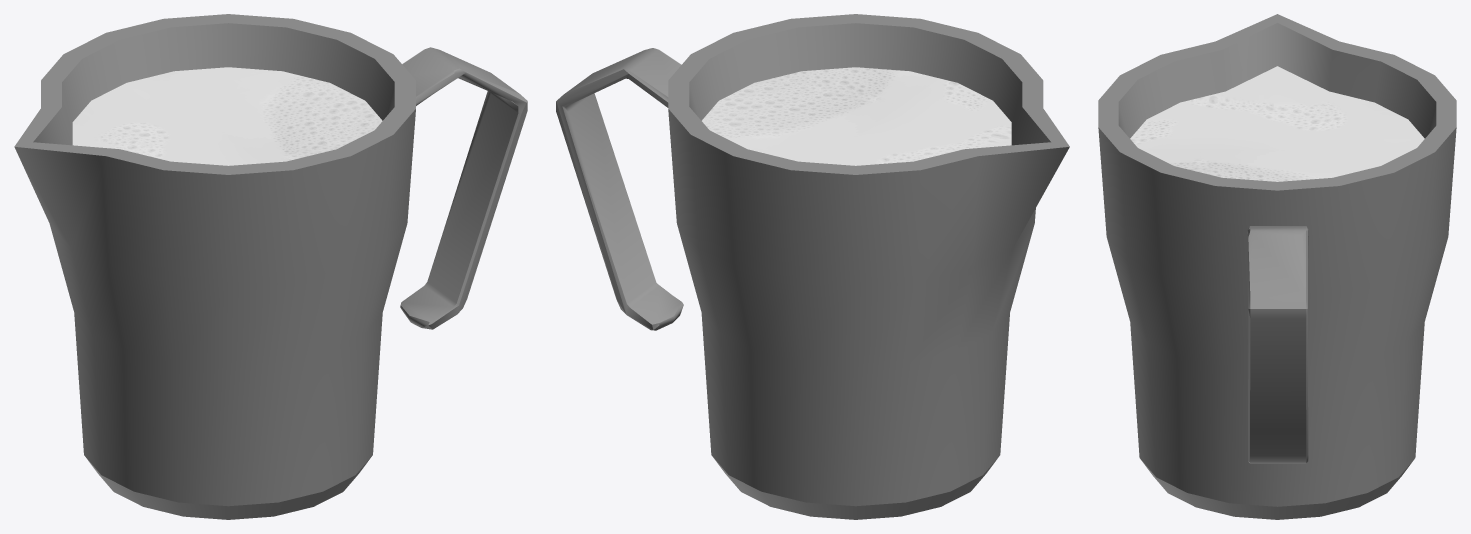
File: Jar.fbx
3 renders of one model, left to right at view 1: azimuth 30°, elevation 25°; view 2: azimuth 150°, elevation 25°; view 3: azimuth 270°, elevation 25°, orthographic. The views are drawn at different scales.
Visible parts, largest first — view 1: Jar; view 2: Jar; view 3: Jar.
Part boxes in pixels (left/top/right/bottom): Jar: left=14, top=14, right=527, bottom=519; Jar: left=556, top=14, right=1069, bottom=519; Jar: left=1098, top=14, right=1456, bottom=519.
Size of the model in its own units: 20.96 by 14.82 by 13.65.
Materials: 2 (1 with a texture image).
